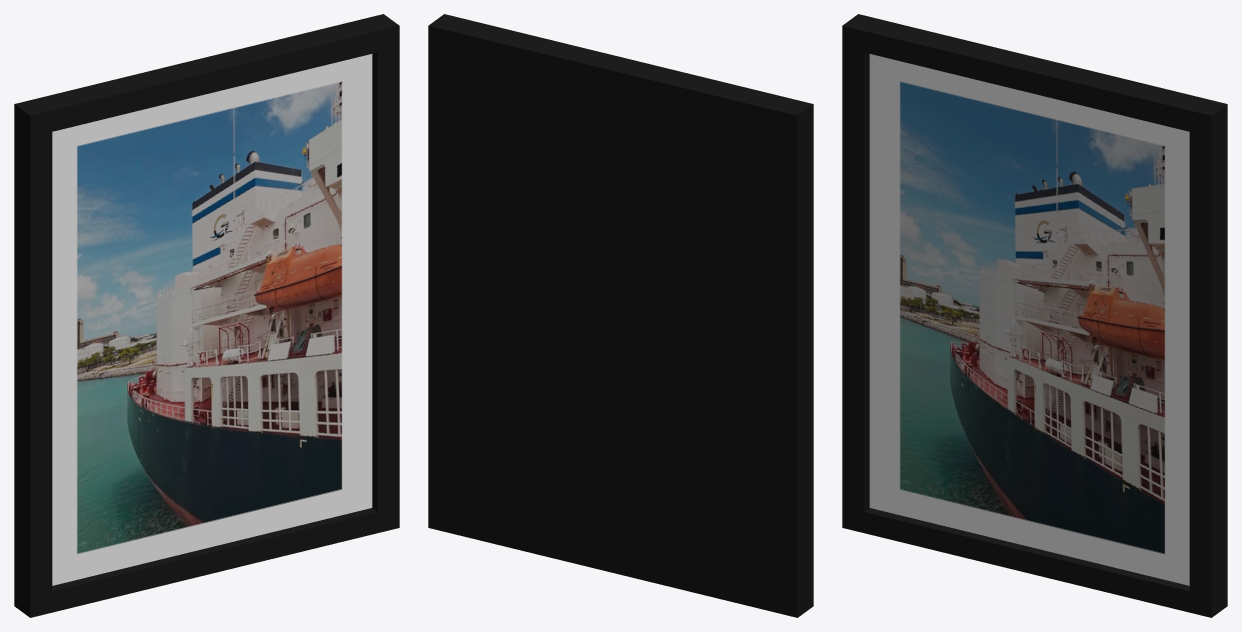
The model's file is frame3.glb.
3 renders of one model, left to right at view 1: azimuth 30°, elevation 25°; view 2: azimuth 150°, elevation 25°; view 3: azimuth 330°, elevation 25°, orthographic.
Visible parts, largest first — view 1: Cube.001, Cube; view 2: Cube; view 3: Cube.001, Cube.
Part boxes in pixels (bbox=[...]): Cube.001: bbox=[52, 54, 372, 585]; Cube: bbox=[14, 14, 399, 617]; Cube: bbox=[428, 14, 813, 617]; Cube.001: bbox=[869, 54, 1189, 585]; Cube: bbox=[842, 14, 1227, 617].
Size of the model in its own units: 1.03 by 1.33 by 0.0775.
Materials: 2 (1 with a texture image).
